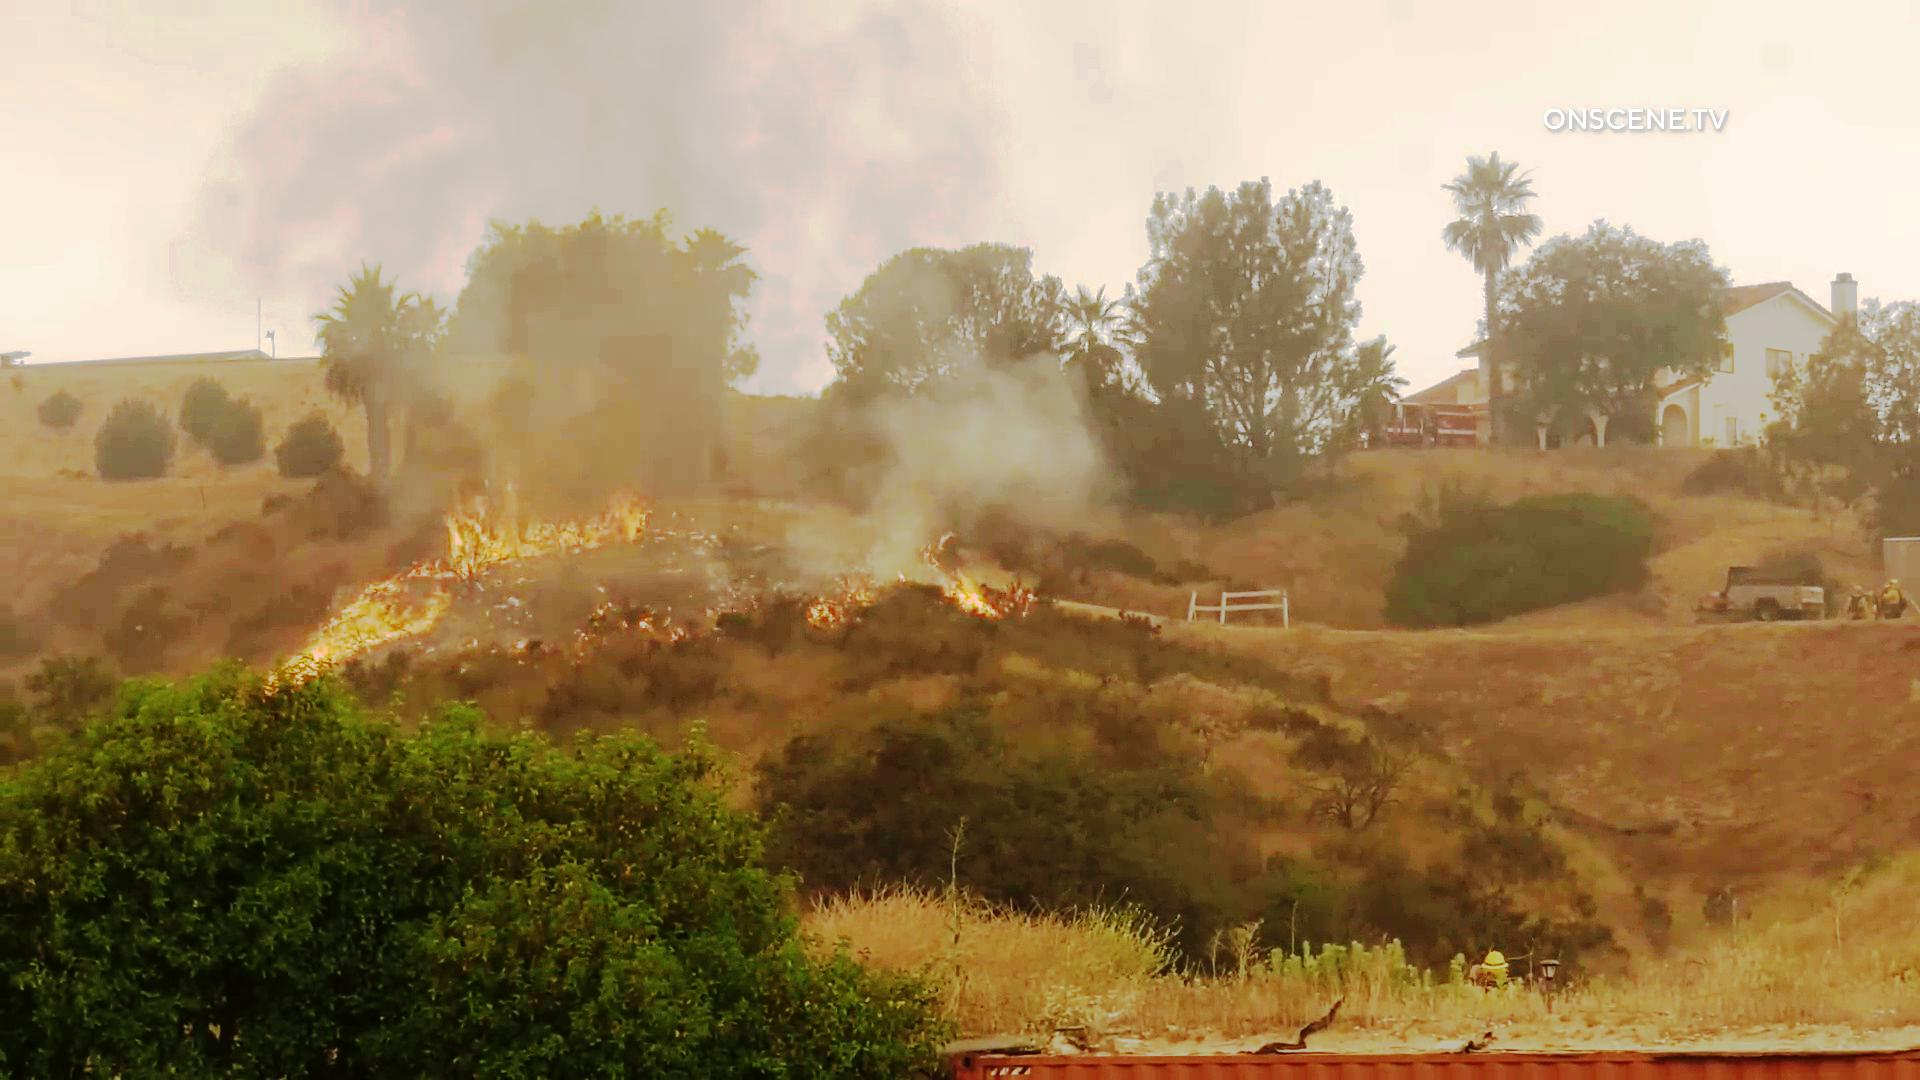fire: (419, 451, 686, 571), (253, 566, 465, 696)
smoke: (426, 11, 862, 220), (851, 306, 1069, 584)
